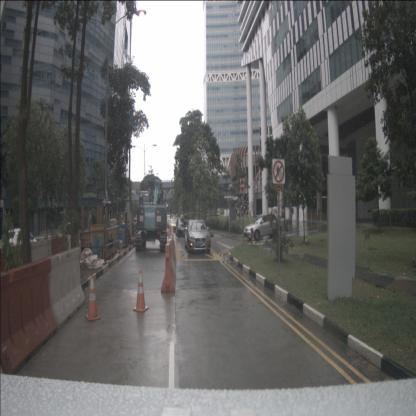movable_object-barrier: (0, 257, 56, 373), (50, 244, 84, 327), (162, 235, 179, 296)
movable_object-trafficcone: (131, 261, 152, 316), (85, 271, 102, 327)
vehicle-car: (0, 227, 40, 259), (243, 213, 282, 241), (184, 218, 211, 253), (176, 217, 188, 236), (170, 218, 178, 233), (168, 218, 175, 230)
